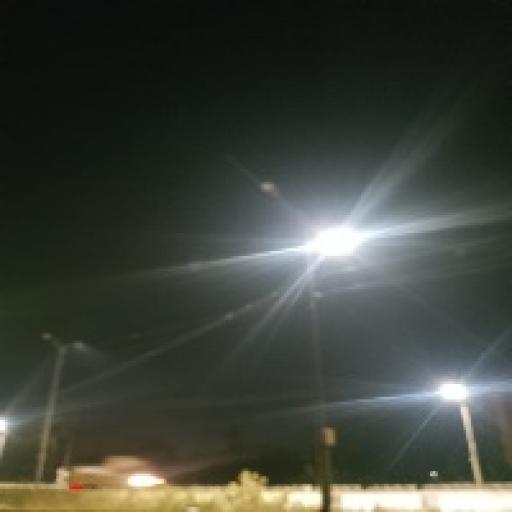Working: (426, 372, 485, 412)
